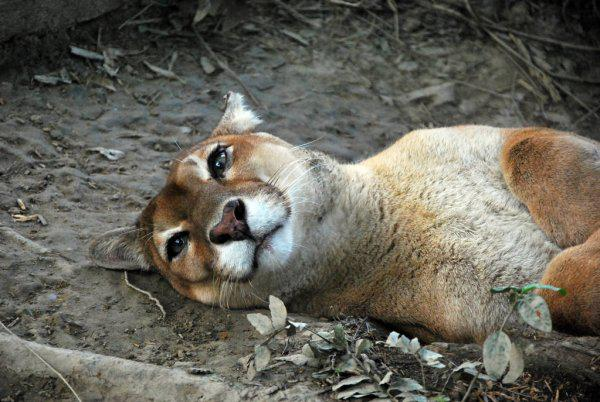Jaguarundi: (90, 87, 586, 329)
